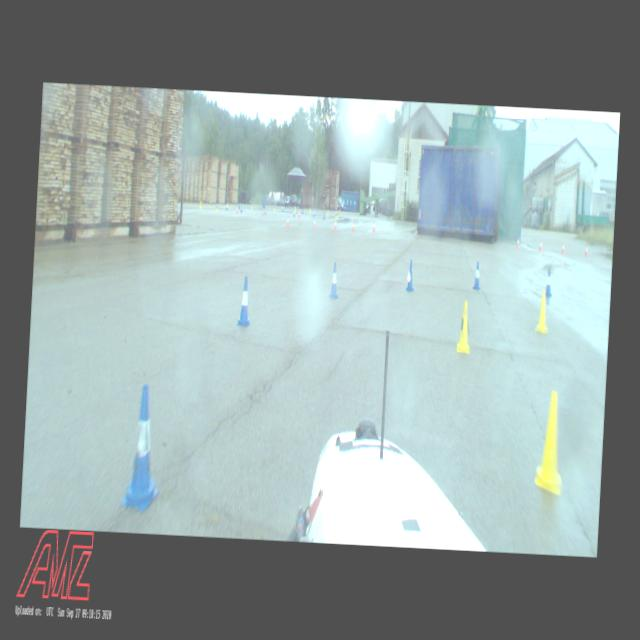blue_cone: (120, 382, 164, 510), (236, 276, 254, 328), (329, 262, 341, 299), (406, 259, 416, 293), (472, 260, 482, 290), (545, 268, 554, 298), (323, 210, 326, 220), (293, 208, 295, 218), (240, 204, 242, 213), (264, 207, 266, 216)
orange_cone: (560, 242, 566, 254), (584, 244, 589, 258), (516, 237, 521, 250), (372, 221, 377, 233), (286, 215, 290, 228), (312, 217, 316, 230), (334, 218, 338, 231), (538, 239, 542, 252), (352, 220, 356, 232), (298, 209, 300, 220), (236, 205, 238, 215), (262, 207, 264, 217)
yellow_cone: (534, 390, 568, 496), (456, 300, 473, 354), (534, 289, 550, 334), (215, 202, 218, 213), (251, 202, 254, 211), (210, 200, 212, 210), (335, 211, 337, 220), (326, 209, 328, 218), (336, 212, 338, 220), (274, 204, 276, 211)
